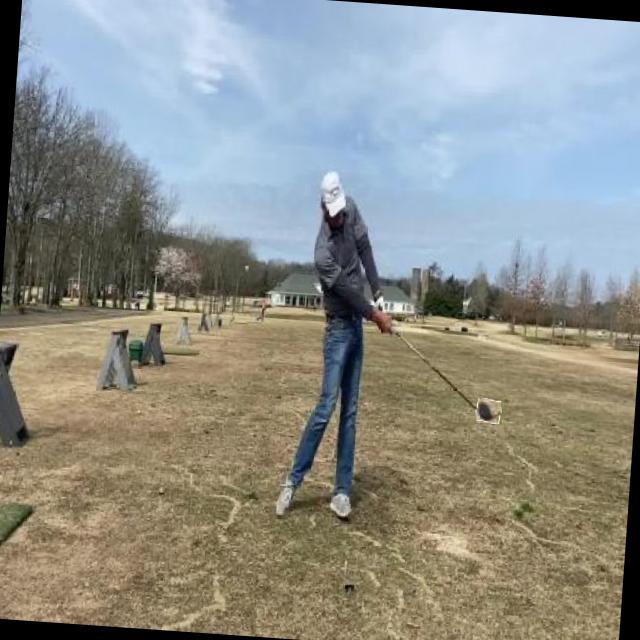club head: (475, 398, 501, 424)
